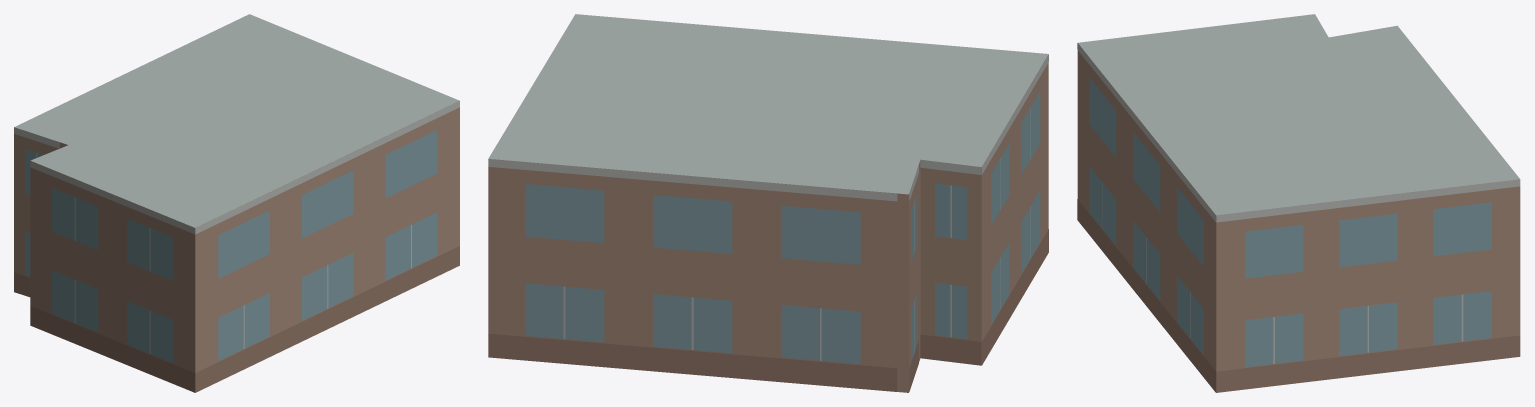
File: survey-upis-32469573.glb
3 renders of one model, left to right at view 1: azimuth 30°, elevation 25°; view 2: azimuth 150°, elevation 25°; view 3: azimuth 270°, elevation 25°, orthographic. The views are drawn at different scales.
Visible parts, largest first — view 1: survey-upis-32469573.tmp; view 2: survey-upis-32469573.tmp; view 3: survey-upis-32469573.tmp.
Part boxes in pixels (x1=…): survey-upis-32469573.tmp: x1=14, y1=14, x2=459, y2=392; survey-upis-32469573.tmp: x1=488, y1=14, x2=1048, y2=392; survey-upis-32469573.tmp: x1=1077, y1=14, x2=1520, y2=392.
Size of the model in its own units: 14.86 by 6.1 by 13.8.
